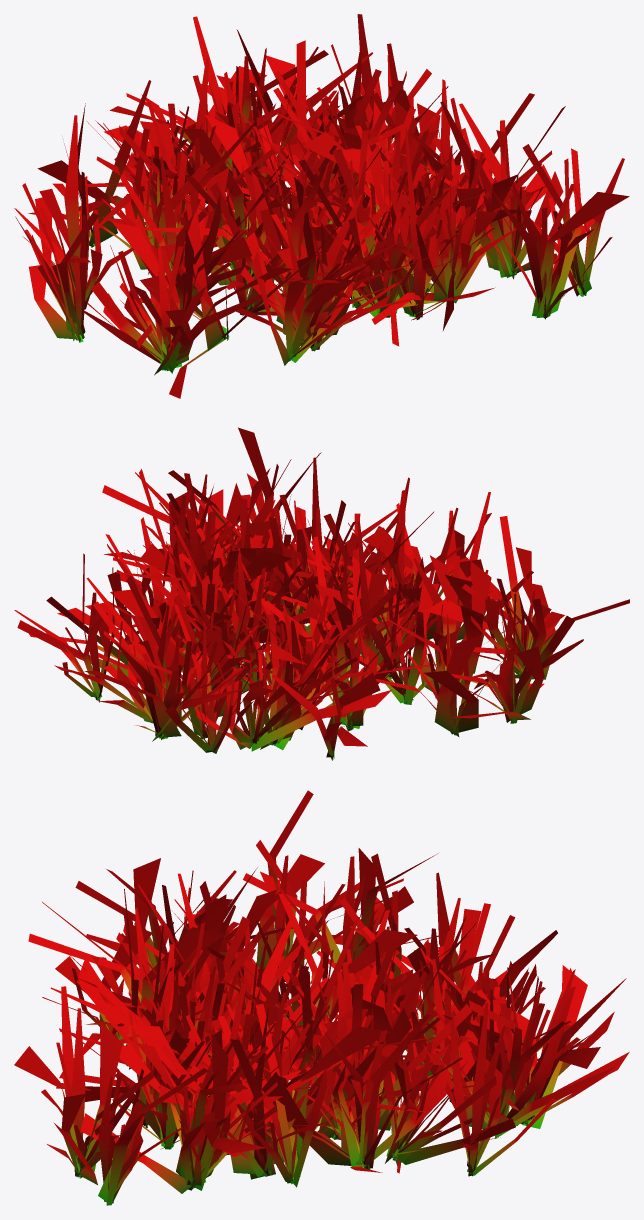
The model's file is Grass_03_Var1_LOD1.FBX.
The picture shows the model from 3 angles, top to bottom: view 1: azimuth 30°, elevation 25°; view 2: azimuth 150°, elevation 25°; view 3: azimuth 270°, elevation 25°; orthographic projection. The views are drawn at different scales.
Parts seen in each view (by area): view 1: Grass_03_Var1_LOD1; view 2: Grass_03_Var1_LOD1; view 3: Grass_03_Var1_LOD1.
Part boxes in pixels (bbox=[...]): Grass_03_Var1_LOD1: bbox=[14, 14, 629, 398]; Grass_03_Var1_LOD1: bbox=[14, 427, 629, 760]; Grass_03_Var1_LOD1: bbox=[14, 790, 629, 1205].
Size of what is drawn, in the model's own units: 67.97 by 64.23 by 25.51.
